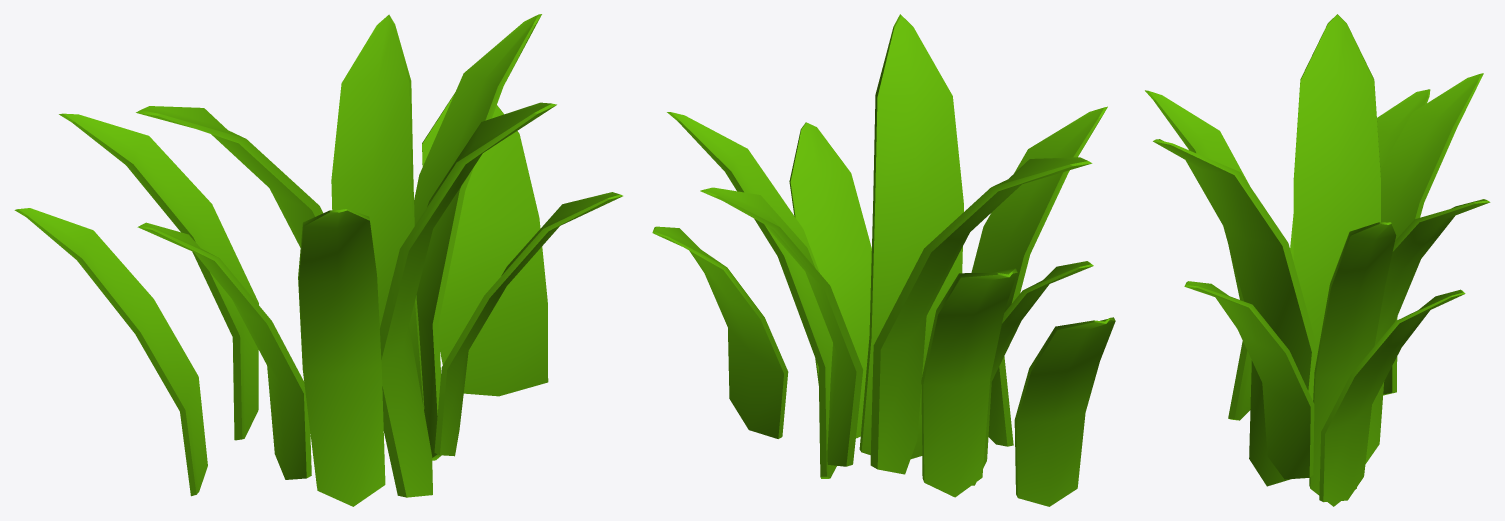
Rendered from PASTO2.fbx.
3 renders of one model, left to right at view 1: azimuth 30°, elevation 25°; view 2: azimuth 150°, elevation 25°; view 3: azimuth 270°, elevation 25°, orthographic. The views are drawn at different scales.
Parts seen in each view (by area): view 1: grass2, grass9, grass3, grass, grass7, grass6, grass11, grass10, grass8, grass4; view 2: grass, grass6, grass4, grass11, grass8, grass2, grass9, grass7, grass3, grass10; view 3: grass4, grass, grass7, grass8, grass9, grass6, grass3, grass2, grass11.
Part boxes in pixels (box(x1,y1,x2,y2)): grass2: box(298, 209, 385, 506); grass9: box(422, 93, 548, 396); grass3: box(331, 14, 424, 408); grass: box(380, 102, 556, 497); grass7: box(414, 14, 541, 460); grass6: box(59, 113, 258, 440); grass11: box(14, 208, 207, 496); grass10: box(137, 222, 311, 479); grass8: box(434, 192, 622, 456); grass4: box(136, 106, 322, 247); grass: box(859, 14, 963, 458); grass6: box(921, 268, 1017, 497); grass4: box(870, 157, 1092, 474); grass11: box(1014, 317, 1115, 506); grass8: box(789, 122, 871, 438); grass2: box(971, 106, 1107, 446); grass9: box(652, 226, 788, 438); grass7: box(667, 112, 836, 478); grass3: box(700, 187, 863, 466); grass10: box(972, 261, 1093, 485); grass4: box(1293, 14, 1380, 354); grass: box(1153, 139, 1317, 486); grass7: box(1309, 222, 1396, 506); grass8: box(1184, 281, 1314, 479); grass9: box(1319, 289, 1465, 502); grass6: box(1380, 73, 1483, 395); grass3: box(1365, 199, 1490, 464); grass2: box(1145, 90, 1251, 420); grass11: box(1377, 89, 1430, 169).
Size of the model in its own units: 0.787 by 0.6385 by 0.5363.
